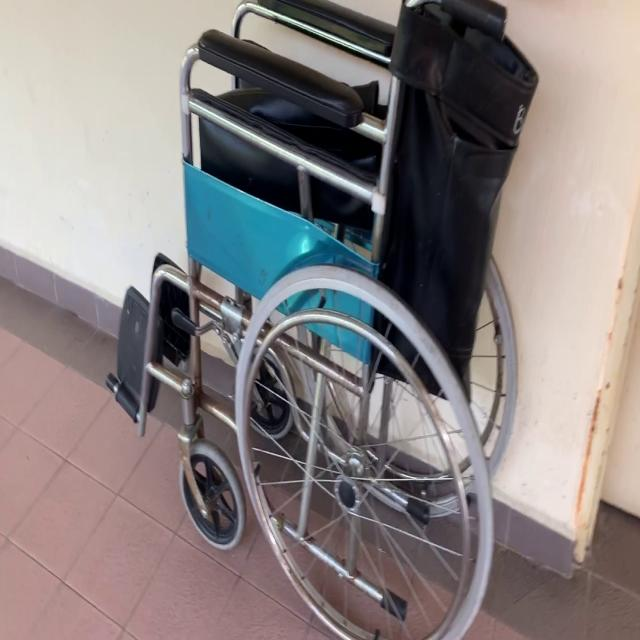wheelchair: (94, 0, 557, 640)
